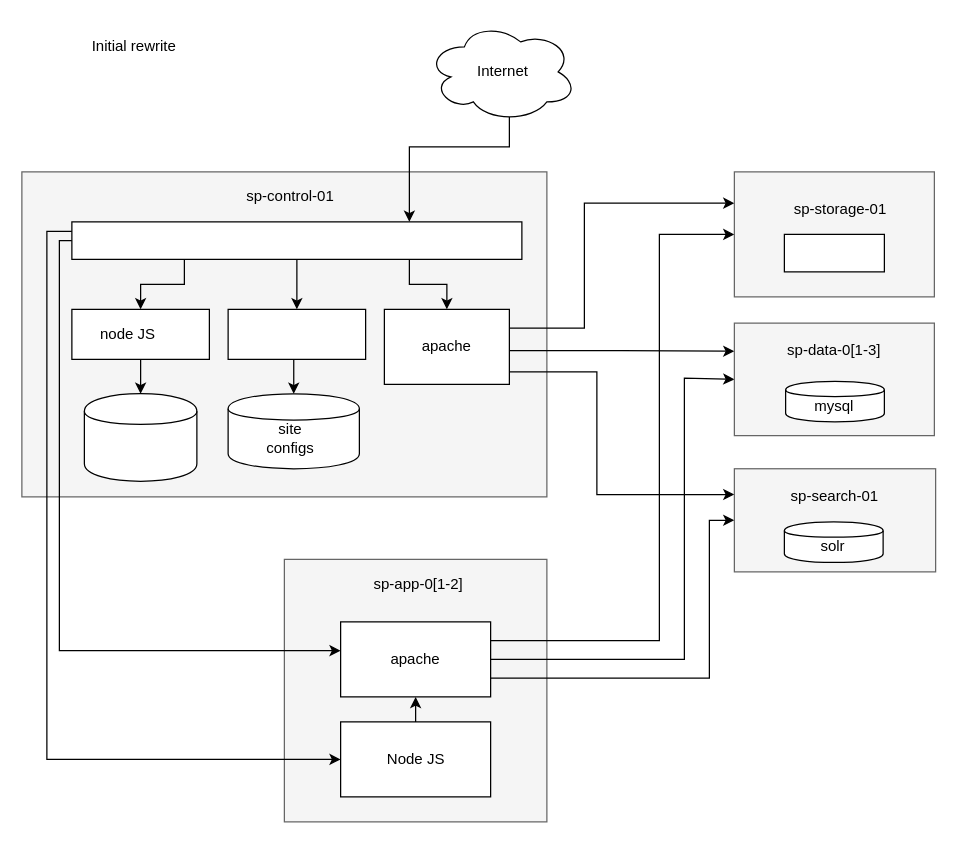
Some shapes in this 958 by 844 pixel diagram are drawn without their labels. The centre of each missing label's shape, as x and y in pixels:
"aegir" belongs at [296,333].
"cite dumps" belongs at [140,436].
"NFS" belongs at [833,252].
"varnish" belongs at [296,240].
